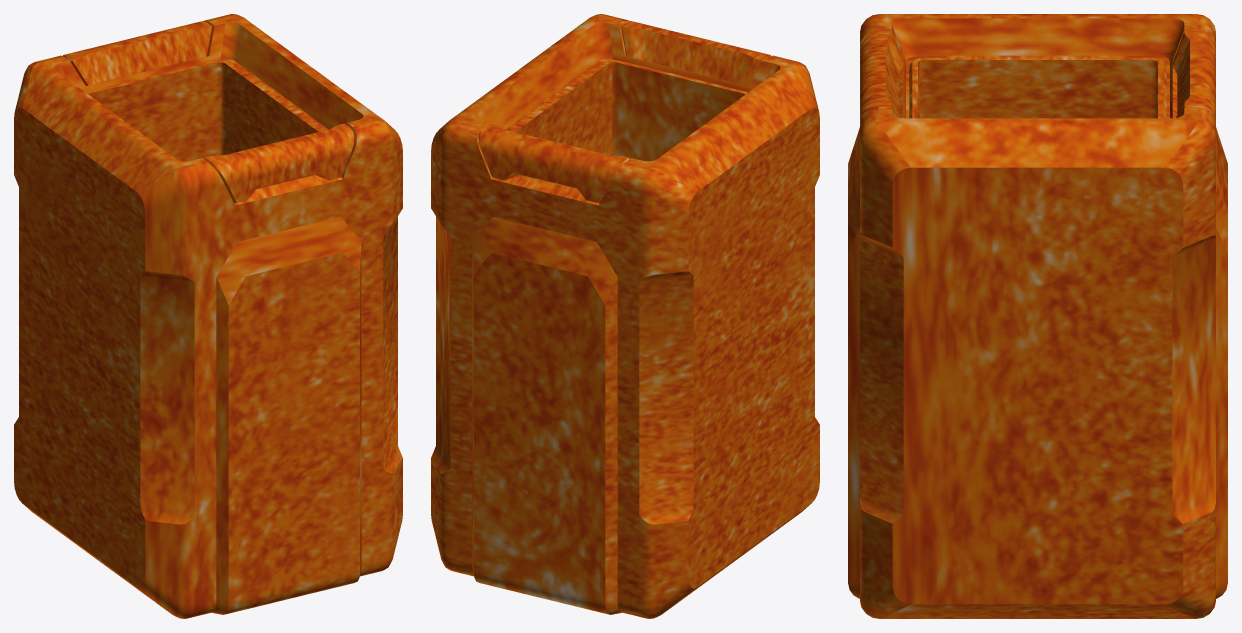
The picture shows the model from 3 angles, left to right: view 1: azimuth 30°, elevation 25°; view 2: azimuth 150°, elevation 25°; view 3: azimuth 270°, elevation 25°; orthographic projection. The views are drawn at different scales.
Parts seen in each view (by area): view 1: Trashcan; view 2: Trashcan; view 3: Trashcan.
Part boxes in pixels (x1,y1,x2,y2): Trashcan: (14, 14, 402, 618); Trashcan: (431, 14, 819, 618); Trashcan: (848, 14, 1227, 618).
Bounding box in the file's own units: 0.5501 × 0.917 × 0.6354.
